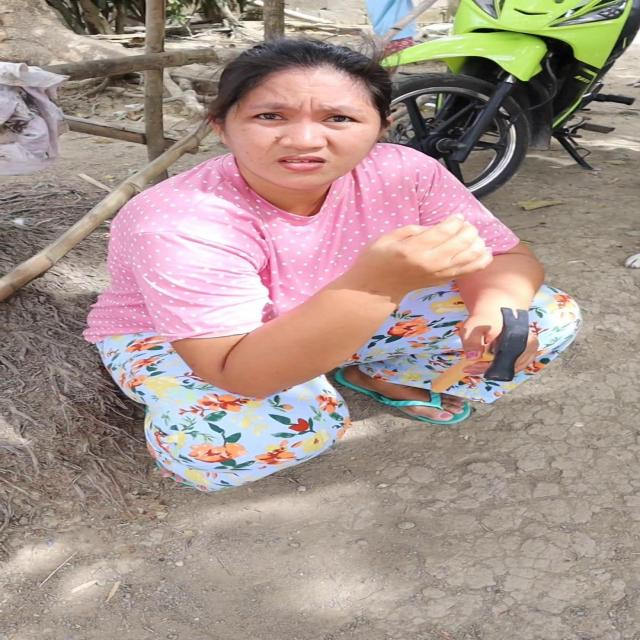hammer: (428, 306, 534, 394)
